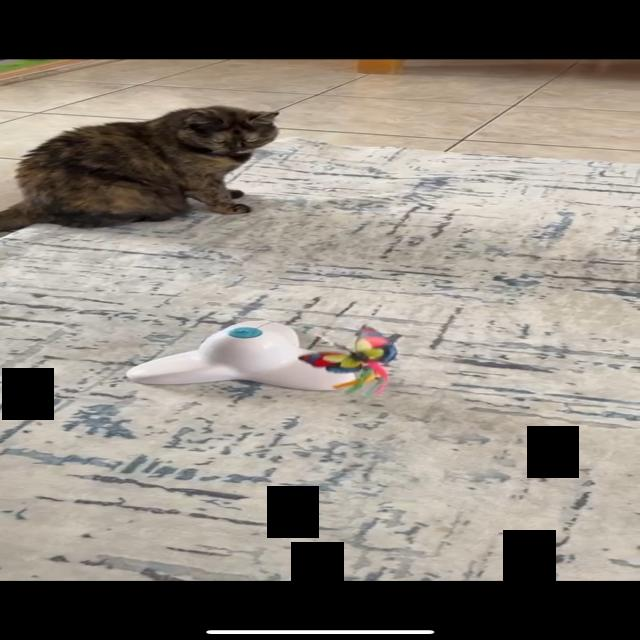authorized: (1, 105, 280, 232)
